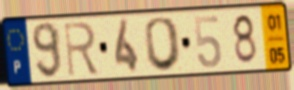4: (113, 17, 141, 75)
5: (193, 13, 224, 70)
8: (231, 13, 259, 67)
9: (31, 21, 63, 82)
O: (143, 15, 184, 73)
R: (62, 20, 101, 79)
